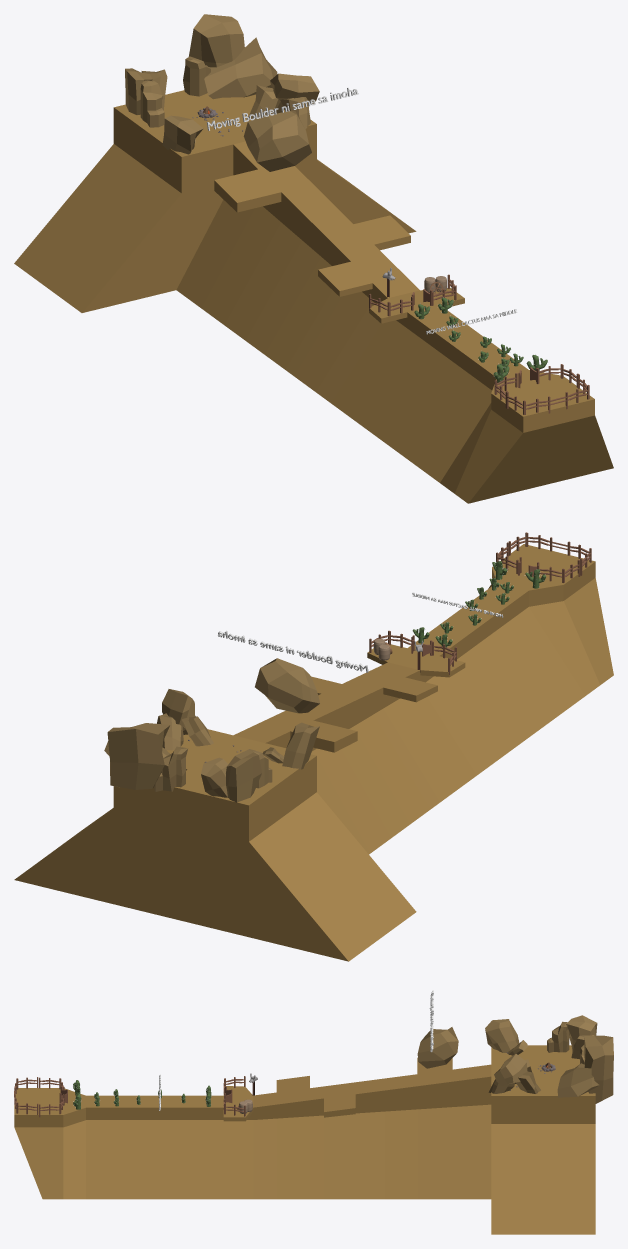
File: Map3.fbx
3 renders of one model, top to bottom at view 1: azimuth 30°, elevation 25°; view 2: azimuth 150°, elevation 25°; view 3: azimuth 270°, elevation 25°, orthographic. The views are drawn at different scales.
Parts seen in each view (by area): view 1: land, structured rocks.003, structured rocks.012, barn wall, Text.001, barn wall.001; view 2: land, structured rocks.003, structured rocks.012, barn wall, Text.001, barn wall.001, structured rocks.010; view 3: land, structured rocks.003, structured rocks.012, barn wall, barn wall.001, structured rocks.010.
Boxes of the visible parts, <box> form: land: <box>14,90,613,503</box>; structured rocks.003: <box>125,14,319,154</box>; structured rocks.012: <box>243,111,311,171</box>; barn wall: <box>494,364,589,414</box>; Text.001: <box>206,88,358,130</box>; barn wall.001: <box>369,274,456,316</box>; land: <box>14,544,613,961</box>; structured rocks.003: <box>104,689,319,802</box>; structured rocks.012: <box>255,658,320,713</box>; barn wall: <box>496,532,591,582</box>; Text.001: <box>218,630,368,672</box>; barn wall.001: <box>369,630,456,674</box>; structured rocks.010: <box>157,713,183,750</box>; land: <box>14,1045,595,1234</box>; structured rocks.003: <box>485,1015,613,1103</box>; structured rocks.012: <box>417,1027,458,1068</box>; barn wall: <box>14,1077,67,1117</box>; barn wall.001: <box>223,1076,245,1116</box>; structured rocks.010: <box>516,1071,540,1093</box>.
Bounding box in the file's own units: 17160 × 9674 × 34632.
